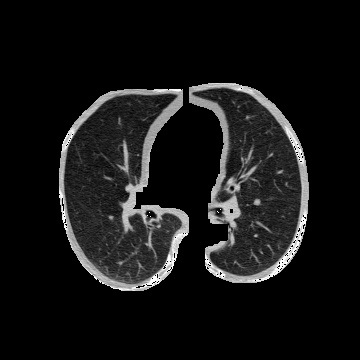PN: (254, 199, 260, 205)
